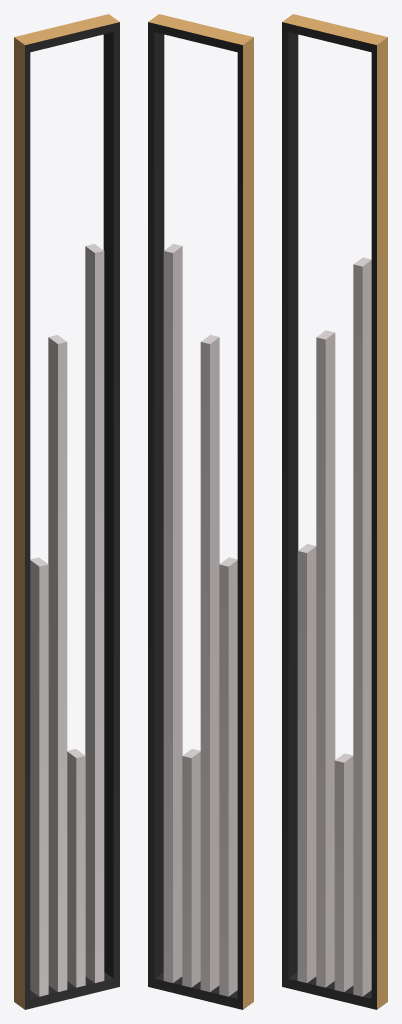
The model's file is LightFloor4.fbx.
The picture shows the model from 3 angles, left to right: view 1: azimuth 30°, elevation 25°; view 2: azimuth 150°, elevation 25°; view 3: azimuth 330°, elevation 25°; orthographic projection.
Visible parts, largest first — view 1: LightFloor4; view 2: LightFloor4; view 3: LightFloor4.
Part boxes in pixels (box(x1,y1,x2,y2)): LightFloor4: box(14, 14, 119, 1009); LightFloor4: box(148, 14, 253, 1009); LightFloor4: box(282, 14, 387, 1009).
Bounding box in the file's own units: 25.84 × 251 × 5.21.
